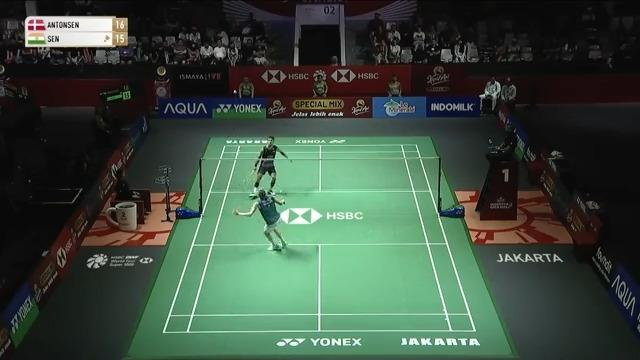Shuttlecock: (232, 86, 238, 94)
